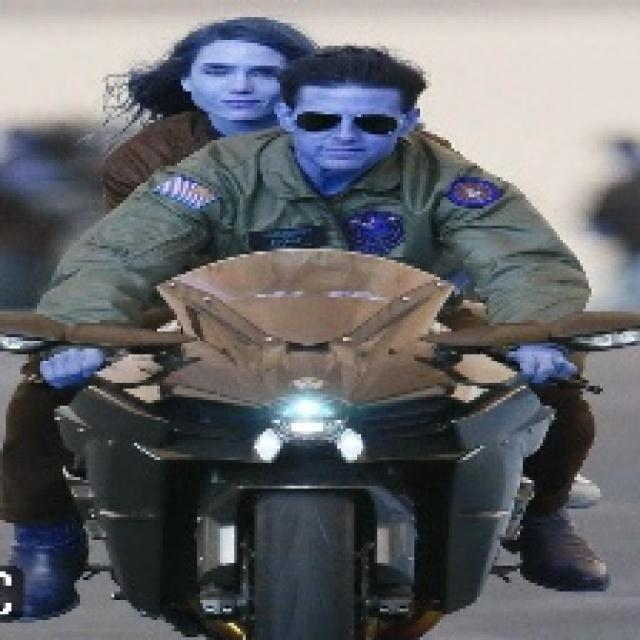Motorcycle: (55, 261, 559, 633)
